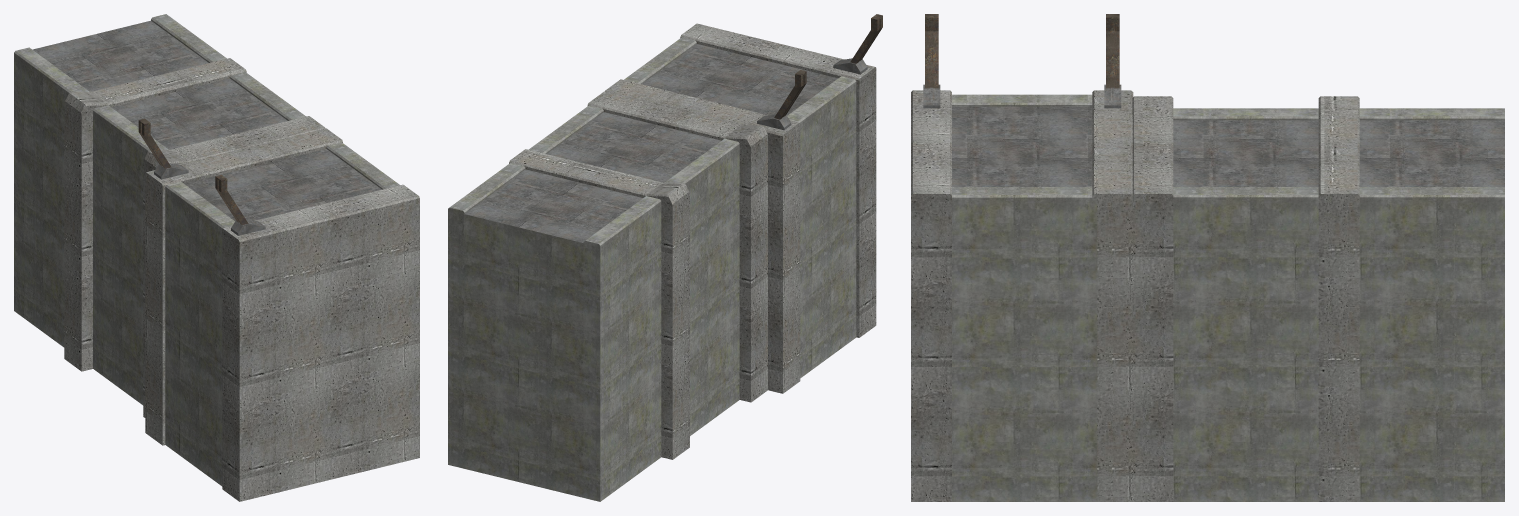
File: block3mirror.fbx
3 renders of one model, left to right at view 1: azimuth 30°, elevation 25°; view 2: azimuth 150°, elevation 25°; view 3: azimuth 270°, elevation 25°, orthographic. The views are drawn at different scales.
Parts seen in each view (by area): view 1: Object; view 2: Object; view 3: Object.
Boxes of the visible parts, left/top/right/bottom form: Object: left=14, top=14, right=419, bottom=501; Object: left=448, top=14, right=882, bottom=501; Object: left=911, top=14, right=1504, bottom=501.
Bounding box in the file's own units: 3475 × 5513 × 7869.
